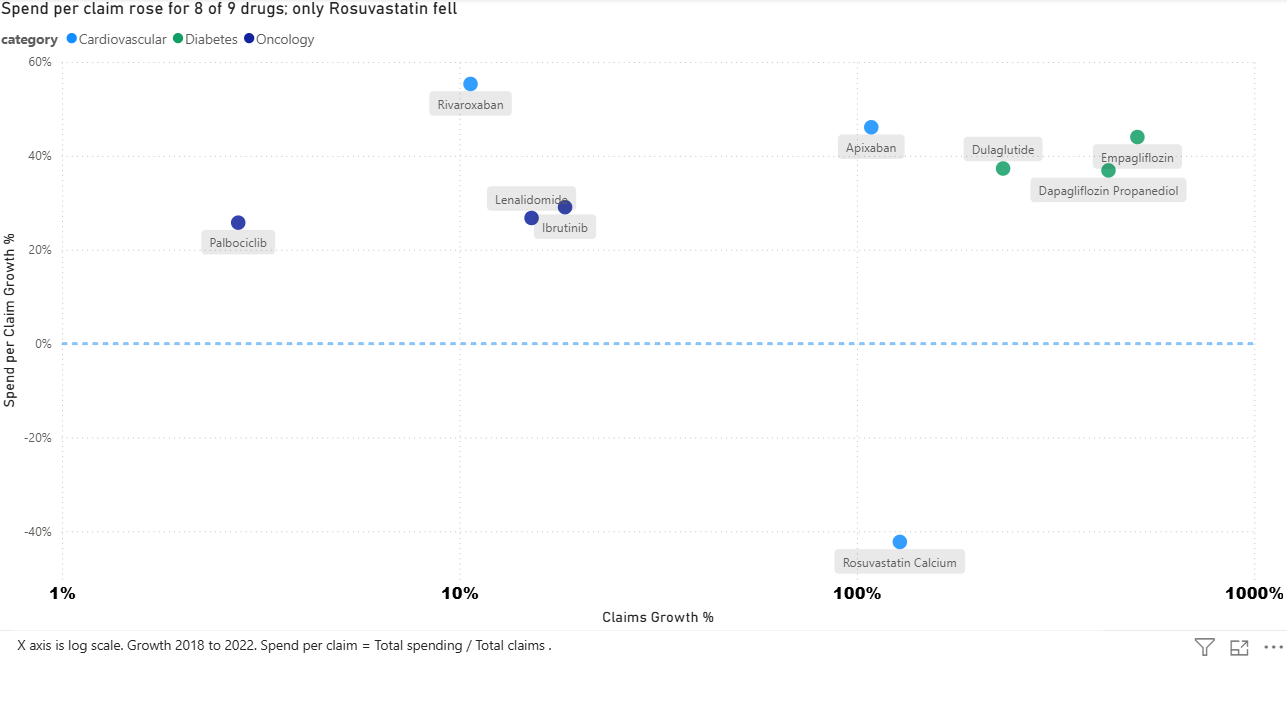

What the dashboard file says about the page in this screenshot:
{"tool":"powerbi","page":{"name":"Spending vs Usage","canvas":[1280,720],"ordinal":1},"visuals":[{"type":"scatterChart","title":"Spend per claim rose for 8 of 9 drugs; only Rosuvastatin fell","fields":{"Category":["cms_part_d_clean.generic_name"],"X":["cms_part_d_clean.Claims Growth %"],"Y":["cms_part_d_clean.Spend per Claim Growth %"],"Series":["cms_part_d_clean.category"]},"box":[14.7,101.5,1265.6,618.8],"z":0},{"type":"textbox","box":[30.7,618.4,1066.5,78.1],"z":1000}]}

Visuals, with their boxes in screenshot pixels (x1, y1, x2, y2), scaled from the page's 1280x720 canvas onto the 1287x728 screenshot:
"Spend per claim rose for 8 of 9 drugs; only Rosuvastatin fell" scatterChart: box=[15, 103, 1286, 727]
textbox: box=[31, 625, 1103, 704]
